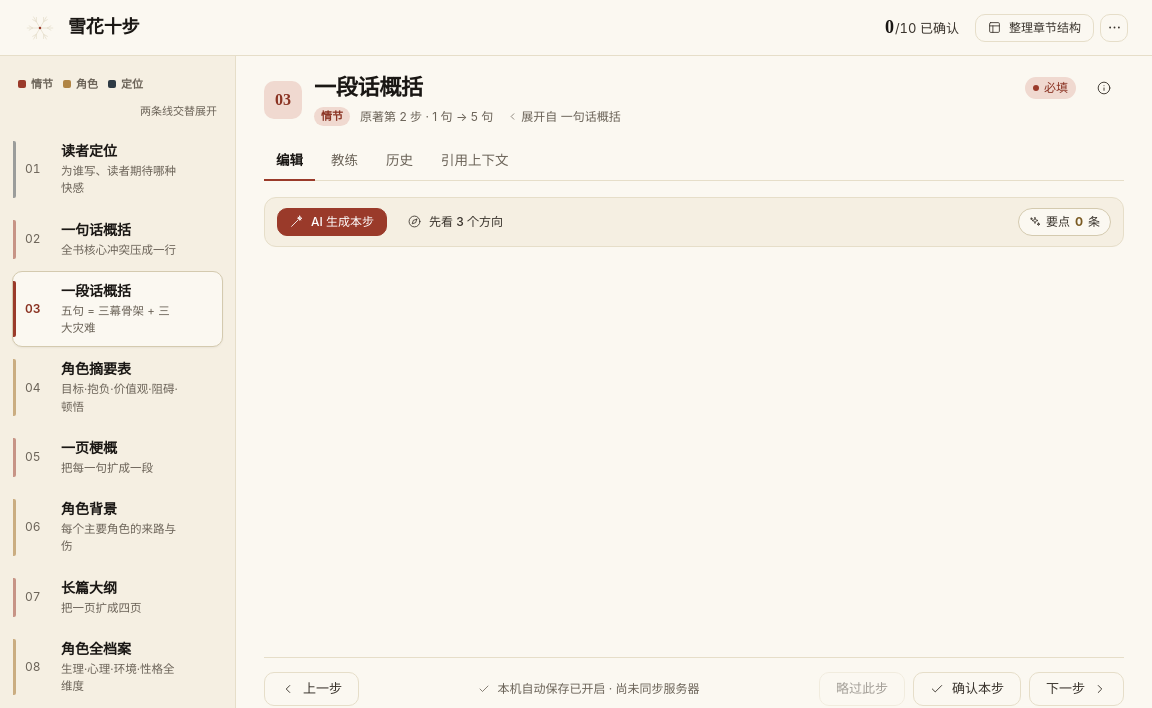
Test: 真实新项目的雪花顶部主操作 › 点击“整理章节结构”打开分章预览面板，而不是直接落库
The width and height of the screenshot is (1152, 708).
Click the button with test id "snow-materialize-top".
click(1034, 28)  # box [975,14,1094,42]
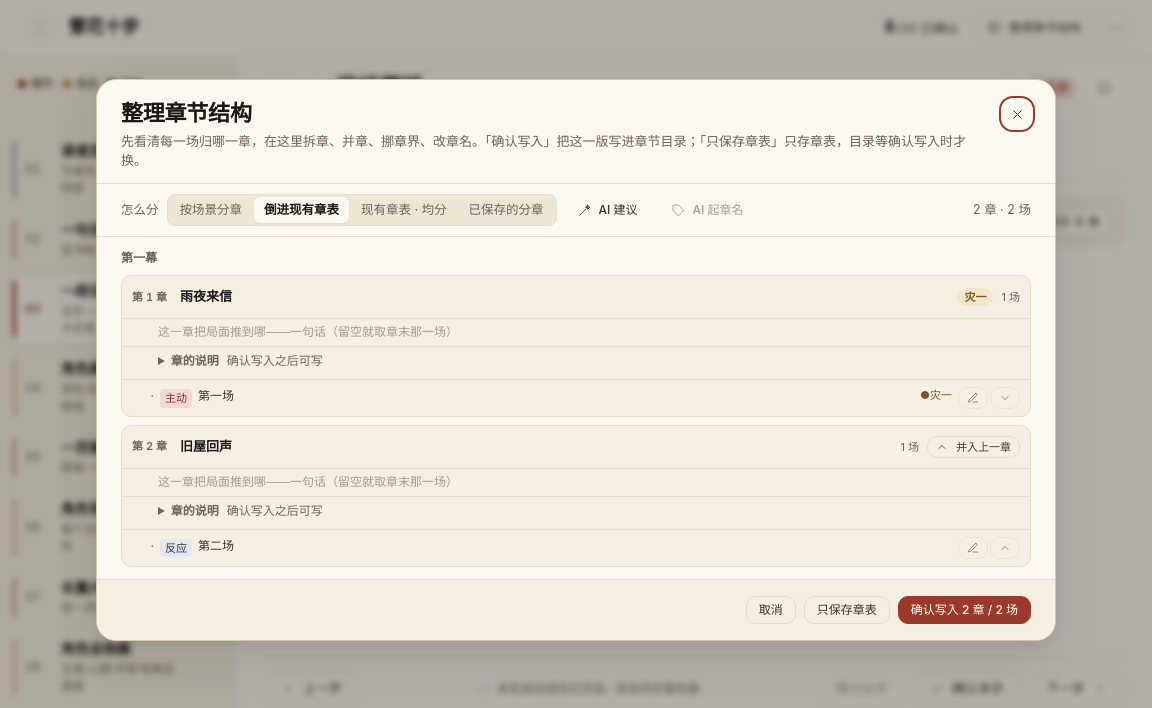
Expected: the dialog with test id "chapter-plan-panel" is shown
